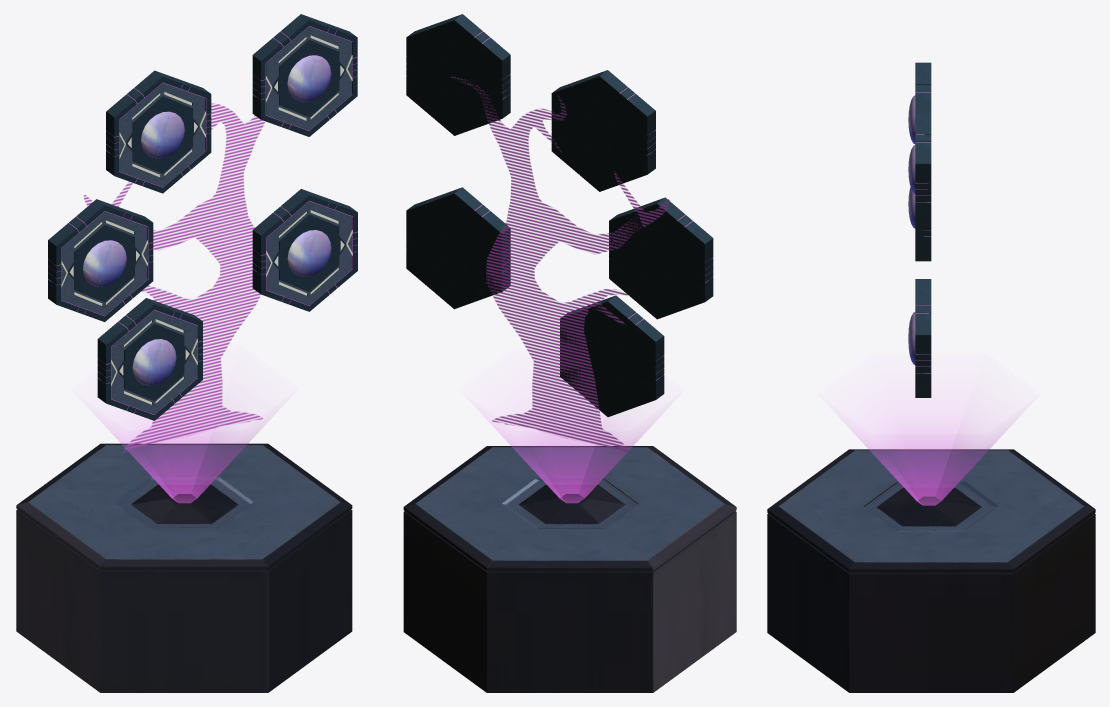
The model's file is elevator-teleport01.glb.
The picture shows the model from 3 angles, left to right: view 1: azimuth 30°, elevation 25°; view 2: azimuth 150°, elevation 25°; view 3: azimuth 270°, elevation 25°; orthographic projection. The views are drawn at different scales.
Visible parts, largest first — view 1: ElevatorTeleport01_Art; view 2: ElevatorTeleport01_Art; view 3: ElevatorTeleport01_Art.
Part boxes in pixels (box(x1,y1,x2,y2)): ElevatorTeleport01_Art: box(16, 14, 357, 692); ElevatorTeleport01_Art: box(403, 14, 736, 692); ElevatorTeleport01_Art: box(767, 62, 1095, 692).
Size of the model in its own units: 4.24 by 6.84 by 3.53.
Materials: 3 (3 with a texture image).
